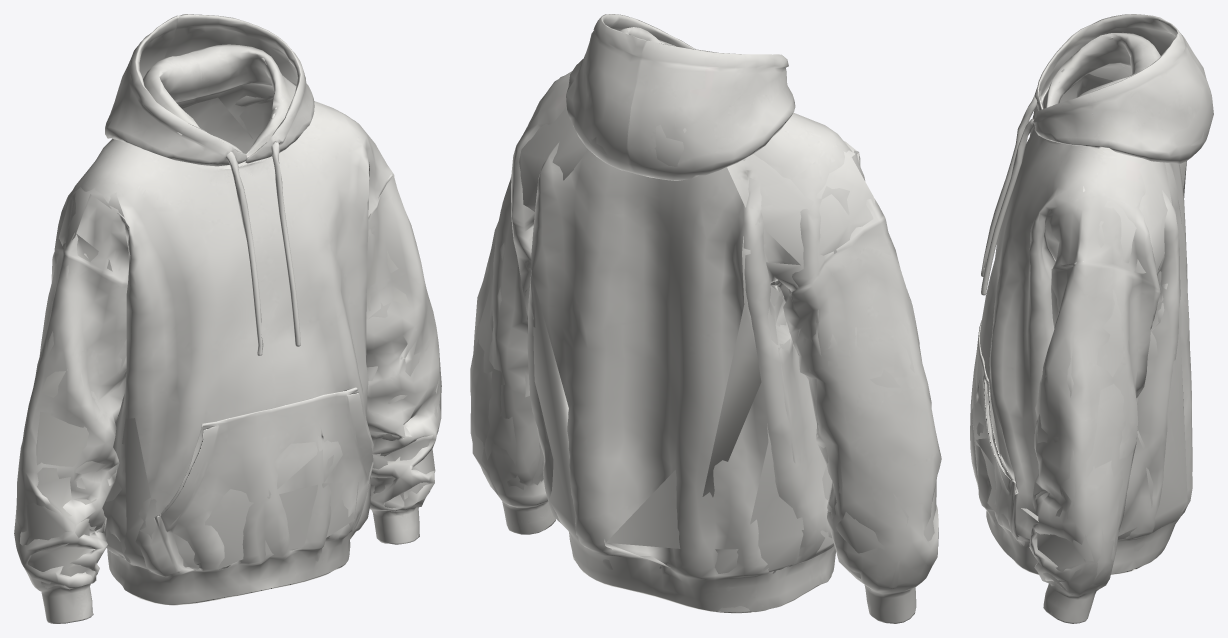
The model's file is moletom.glb.
The picture shows the model from 3 angles, left to right: view 1: azimuth 30°, elevation 25°; view 2: azimuth 150°, elevation 25°; view 3: azimuth 270°, elevation 25°; orthographic projection. The views are drawn at different scales.
Visible parts, largest first — view 1: Mesh_0; view 2: Mesh_0; view 3: Mesh_0.
Boxes of the visible parts, box(x1,y1,x2,y2) form: Mesh_0: box(14, 14, 441, 623); Mesh_0: box(470, 14, 941, 623); Mesh_0: box(970, 14, 1213, 623).
Bounding box in the file's own units: 0.7998 × 0.9521 × 0.415.
Materials: 1 (1 with a texture image).
